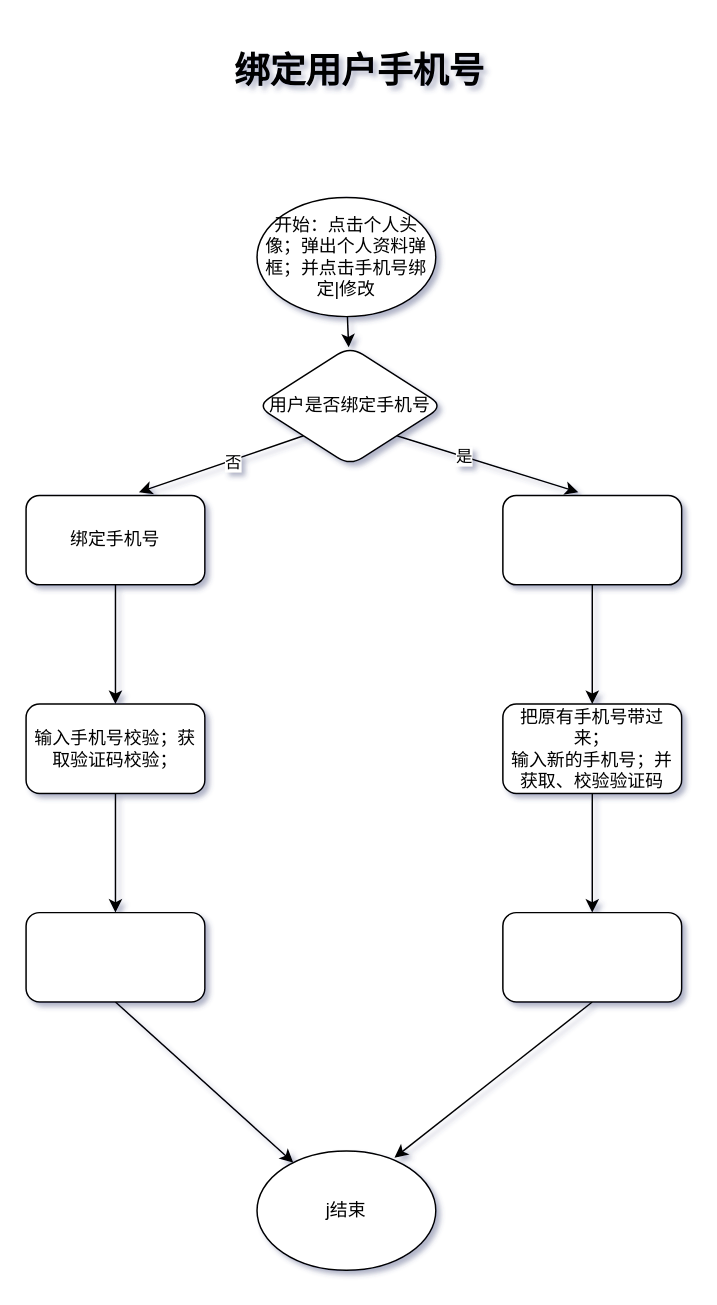
The diagram is 717 pixels wide and 1305 high, and some of its shapes have lost their labels. Each missing label, with the box of its shape:
修改成功；返回个人资料弹框: (501, 911, 682, 1002)
更换手机号: (501, 494, 682, 585)
绑定成功；返回个人资料弹框: (25, 911, 205, 1002)
